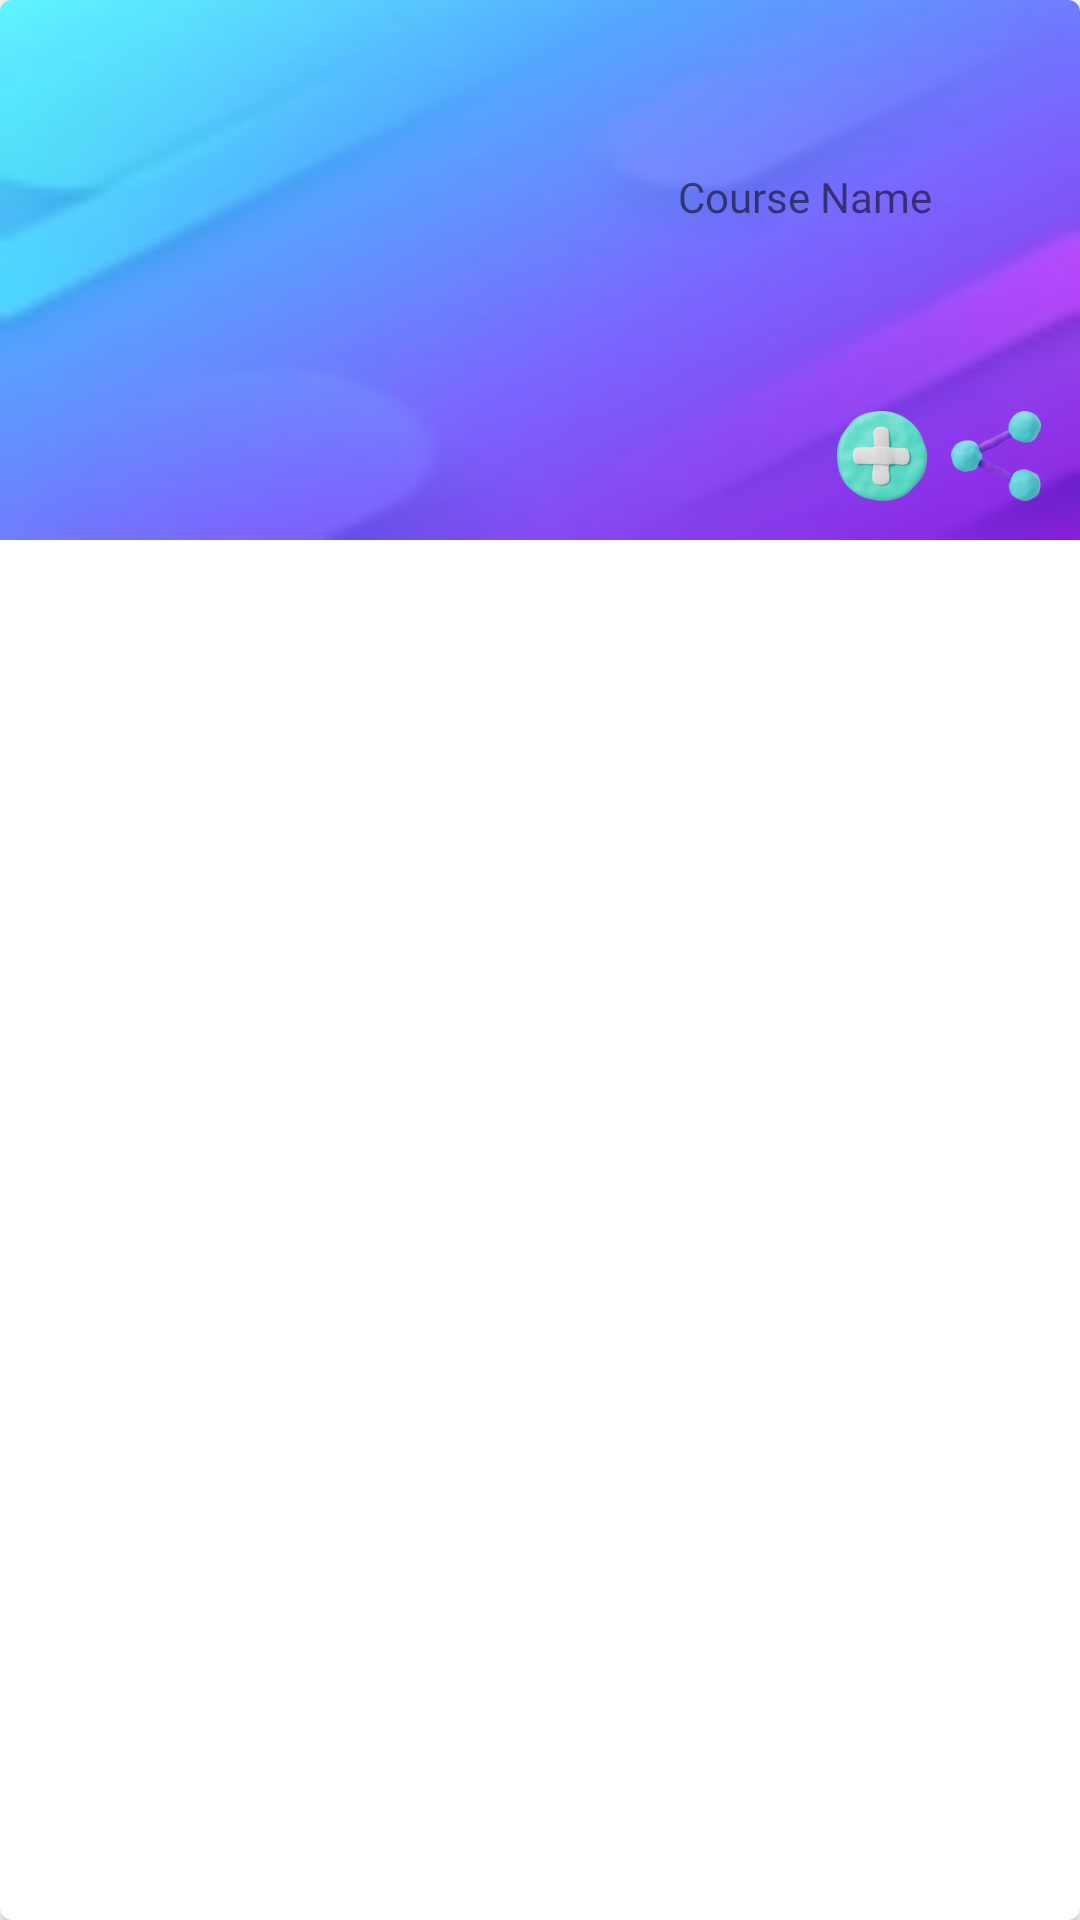

Named icons in this screenshot (1080×1920) and their centers, point (x, y):
add: point (888, 466)
share: point (996, 456)
